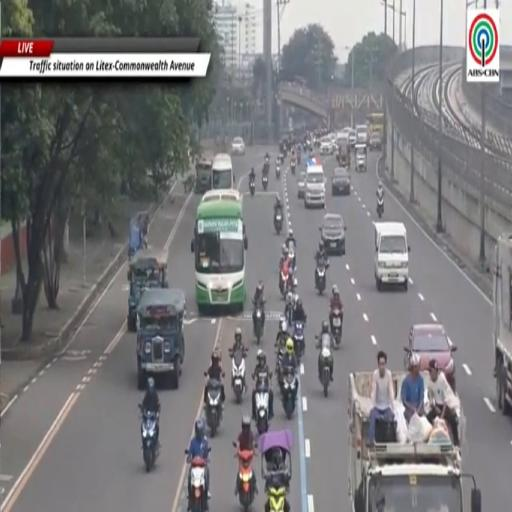bus: (191, 198, 247, 313), (195, 154, 234, 194), (212, 154, 235, 189), (195, 158, 212, 194), (367, 114, 384, 134)
car: (405, 324, 456, 392), (319, 214, 345, 255), (332, 167, 350, 196), (231, 137, 245, 155), (369, 133, 382, 150), (356, 125, 368, 143), (320, 137, 332, 154), (298, 171, 305, 199), (328, 133, 336, 153), (348, 130, 356, 147)
jeepney: (348, 372, 481, 511), (137, 288, 185, 390), (128, 249, 168, 331), (128, 212, 149, 259), (337, 139, 350, 167), (355, 144, 366, 171)
motorcycle: (185, 450, 208, 511), (140, 405, 158, 472), (236, 451, 255, 510), (206, 379, 222, 437), (230, 349, 245, 404), (255, 380, 269, 435), (282, 370, 297, 420), (319, 345, 332, 396), (276, 339, 286, 386), (293, 322, 305, 361), (332, 309, 343, 347), (315, 264, 328, 295), (254, 304, 264, 344), (279, 269, 289, 298), (285, 301, 293, 328), (274, 210, 282, 234), (289, 243, 296, 270), (377, 197, 383, 218), (262, 157, 269, 173), (249, 181, 255, 197), (262, 175, 268, 190), (276, 164, 280, 179), (291, 162, 296, 174), (297, 152, 300, 165)
truck: (349, 372, 481, 511), (191, 190, 247, 313), (492, 233, 511, 414)
